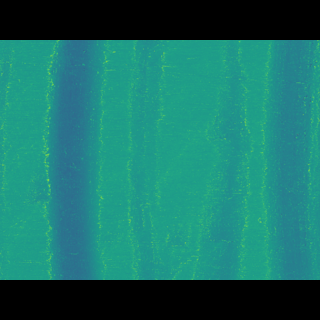Loch: (42, 69, 114, 251), (193, 69, 254, 250), (260, 69, 320, 250), (130, 68, 167, 249)
